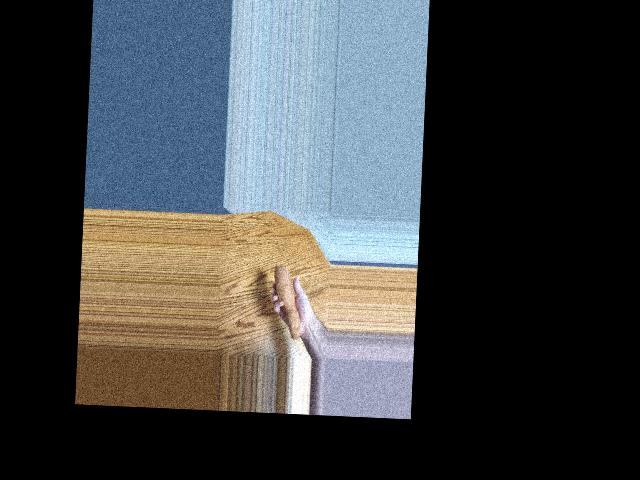sweet_potato: (268, 264, 303, 347)
